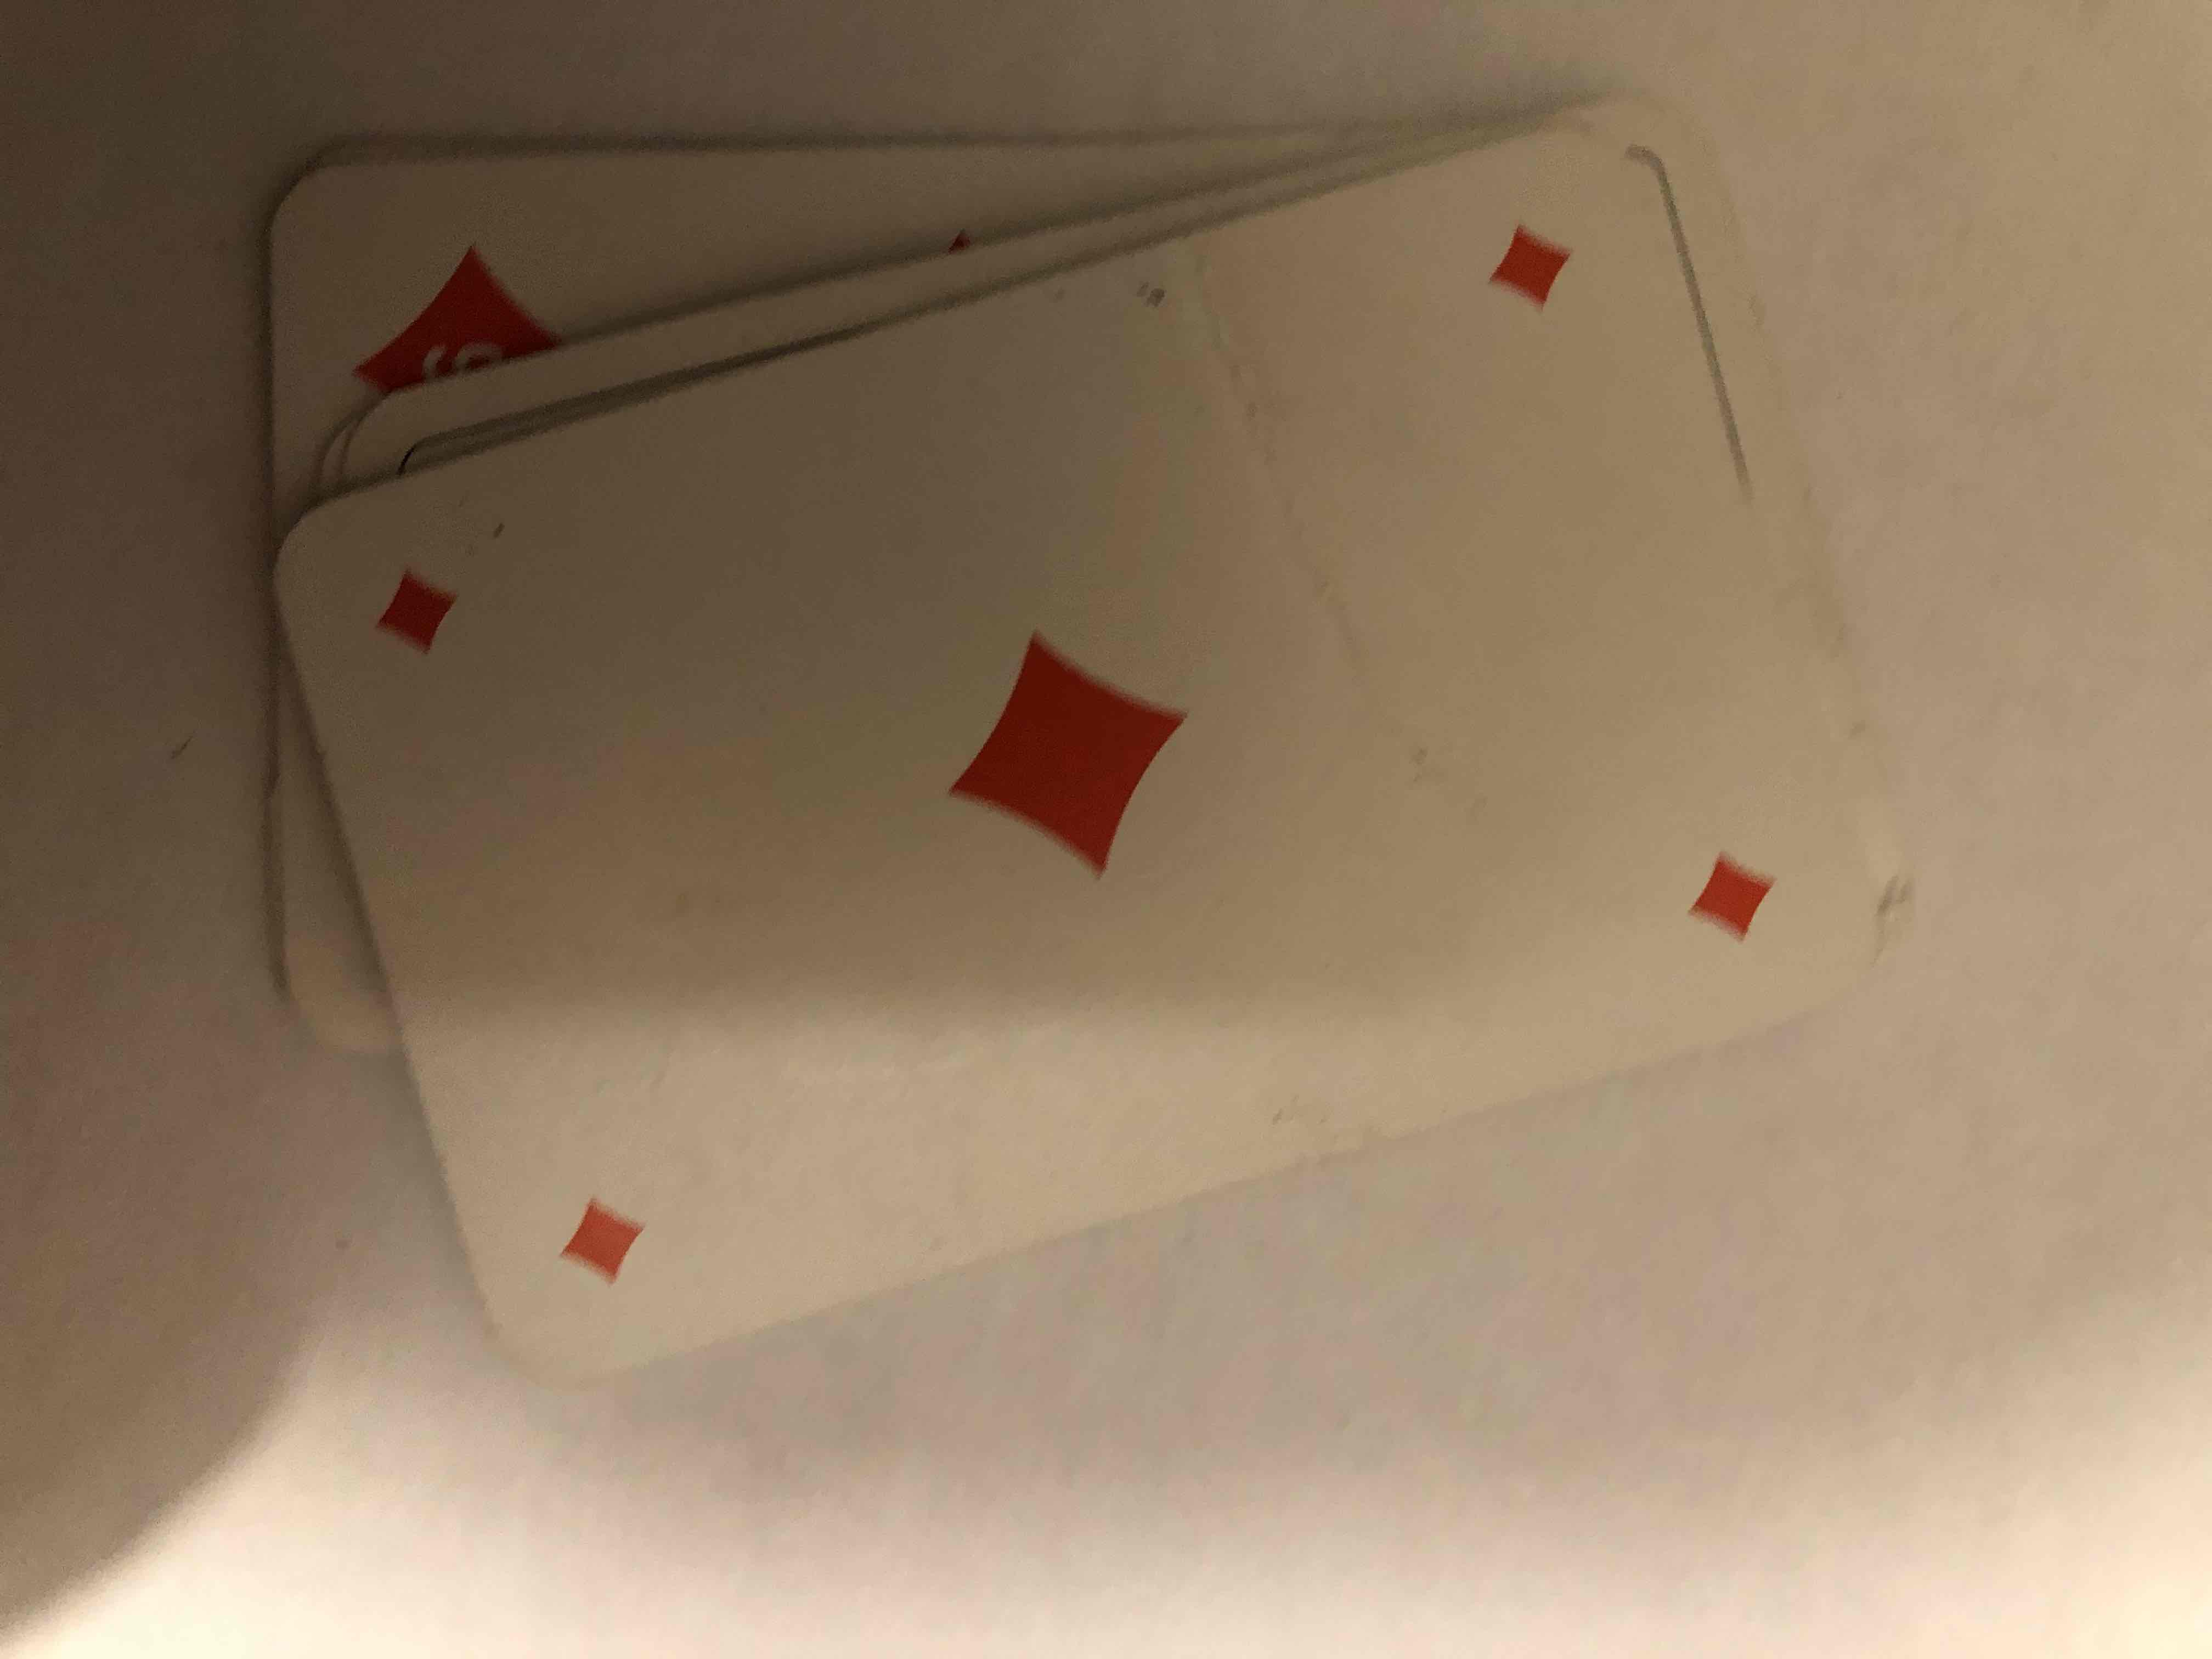diamondAce: (324, 125, 1871, 1333)
